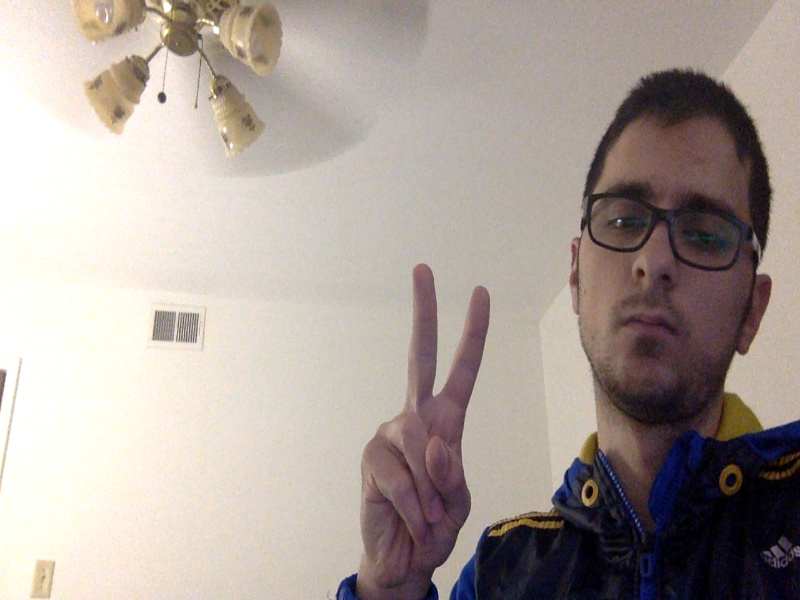2-hand: (360, 267, 489, 591)
